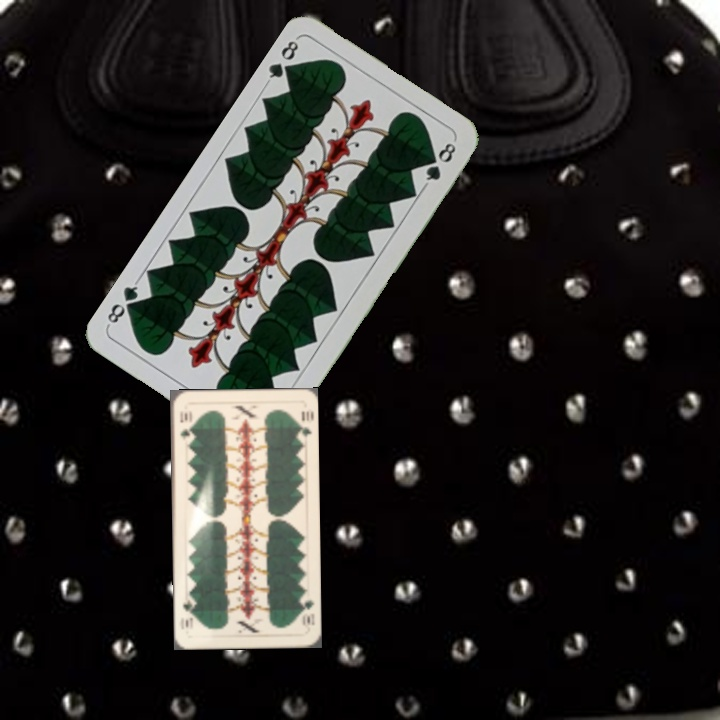G10: (297, 591, 317, 632), (176, 406, 193, 442)
G8: (262, 34, 301, 86)
